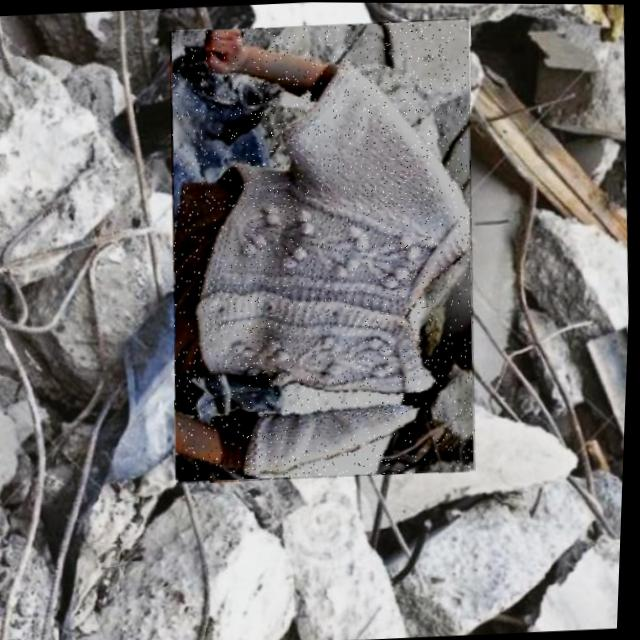Person in Rubble: (156, 16, 492, 486)
